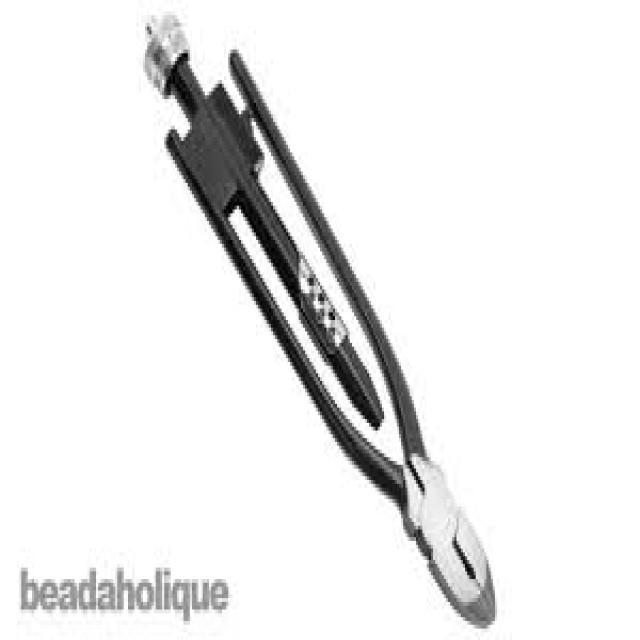pliers: (148, 14, 508, 639)
